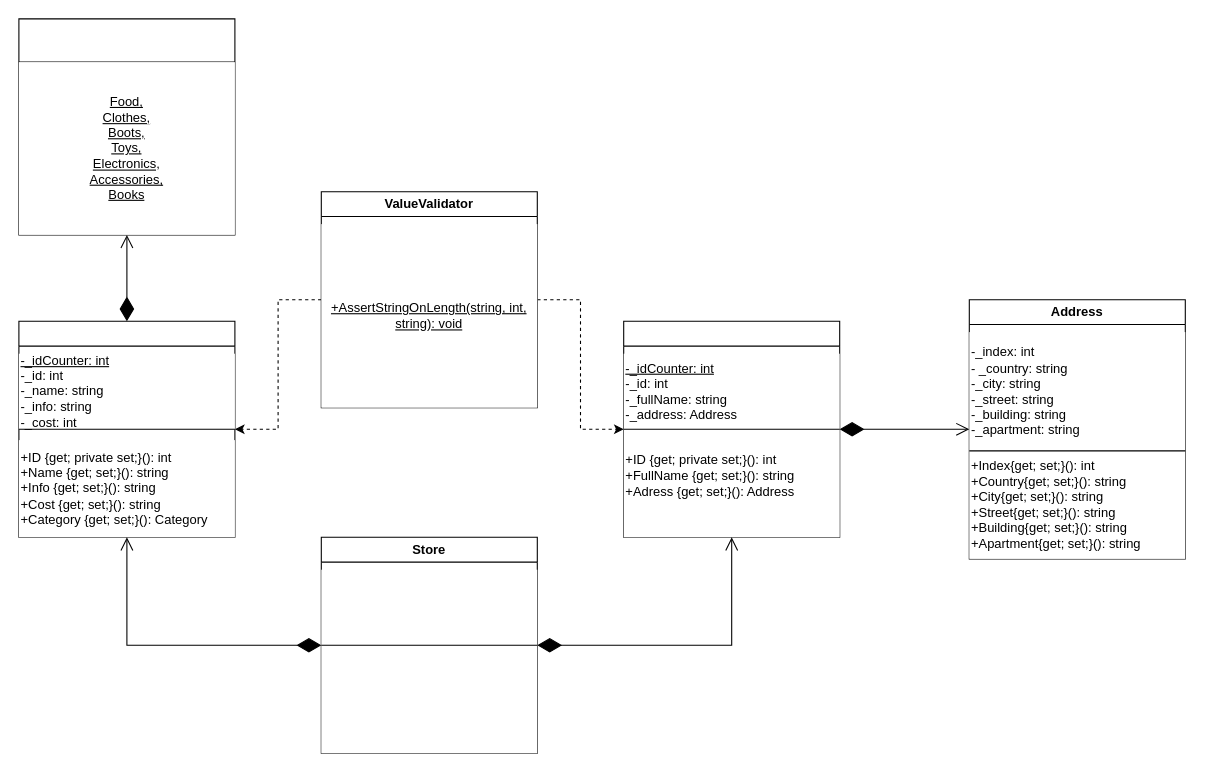
The diagram is 1205 pixels wide and 772 high, and some of its shapes have lost their labels. Here are the shapes that lost their labels. From the top down, the box of each, then its label:
(18, 18, 235, 235): enumeration Category
(18, 320, 235, 537): Item
(623, 320, 840, 537): Customer
(321, 569, 537, 645): -_items: List<Item> -_customers: List<Customer>
(321, 645, 537, 753): + Items{ get; set; }(): List<Item> + Customers{ get; set; }(): List<Customer >
